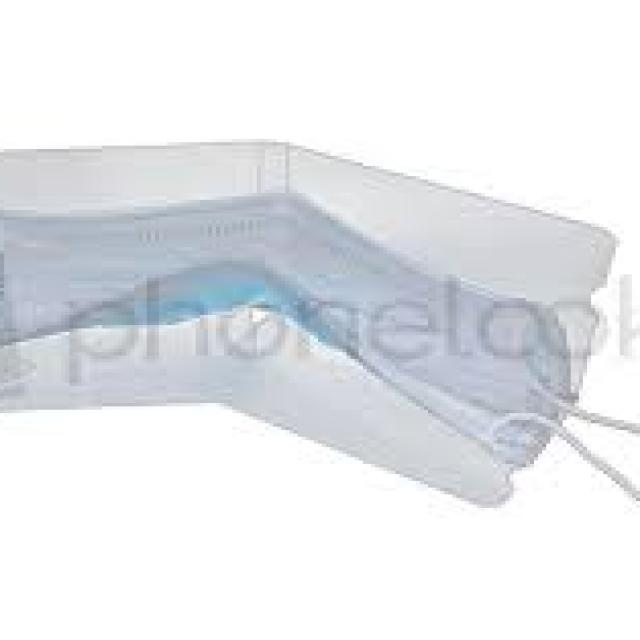organic: (8, 140, 617, 532)
